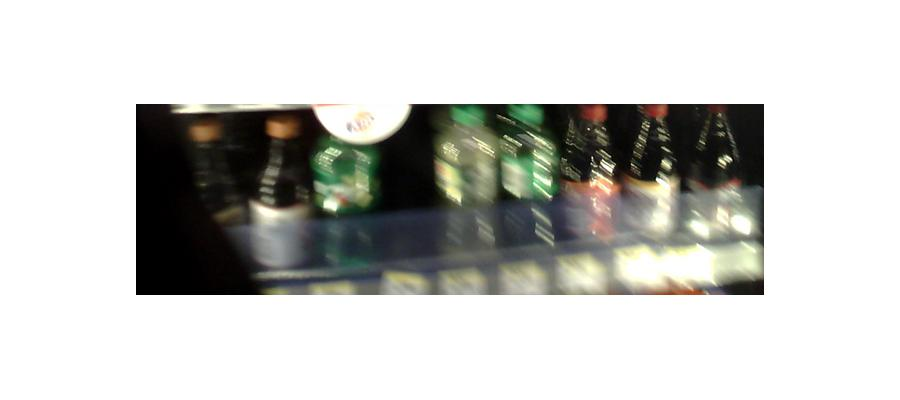bottle: (309, 107, 381, 268), (498, 97, 559, 268), (437, 104, 495, 255), (253, 113, 305, 278), (688, 105, 745, 250), (562, 103, 619, 245), (622, 107, 680, 242)
